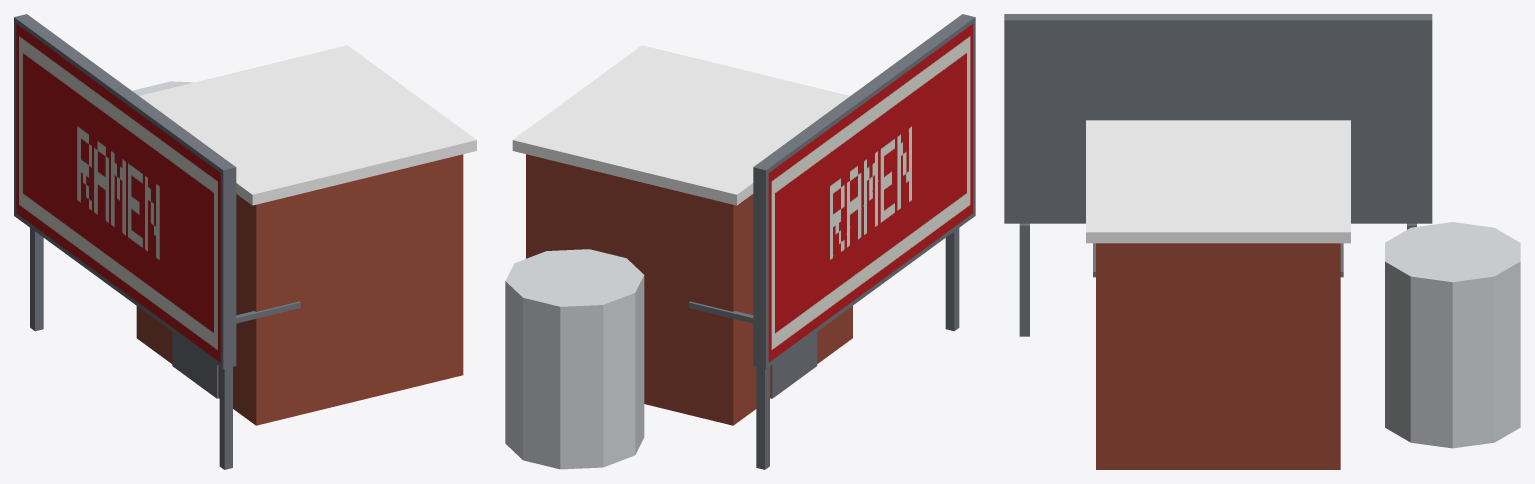
The model's file is roofprop_close.fbx.
The picture shows the model from 3 angles, left to right: view 1: azimuth 30°, elevation 25°; view 2: azimuth 150°, elevation 25°; view 3: azimuth 270°, elevation 25°; orthographic projection. The views are drawn at different scales.
Visible parts, largest first — view 1: a2009/600/roofprop_close; view 2: a2009/600/roofprop_close; view 3: a2009/600/roofprop_close.
Boxes of the visible parts, x1,y1,x2,y2 form: a2009/600/roofprop_close: (14, 14, 476, 469); a2009/600/roofprop_close: (505, 14, 975, 469); a2009/600/roofprop_close: (1004, 14, 1520, 469).
Bounding box in the file's own units: 3.4 × 3.4 × 5.07.
